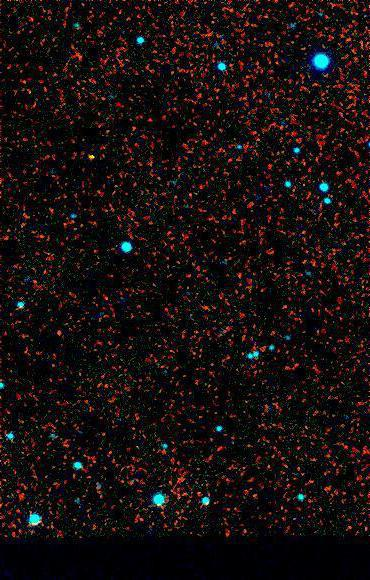star: (78, 142, 108, 172)
